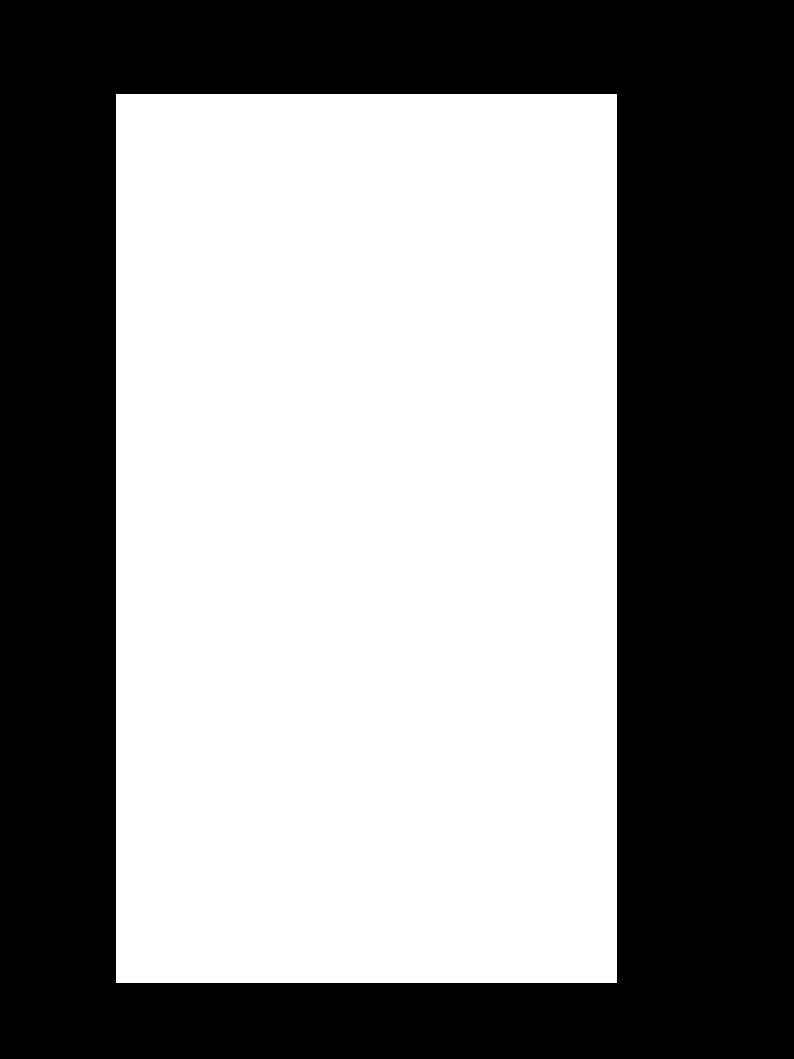table: (116, 94, 616, 982)
